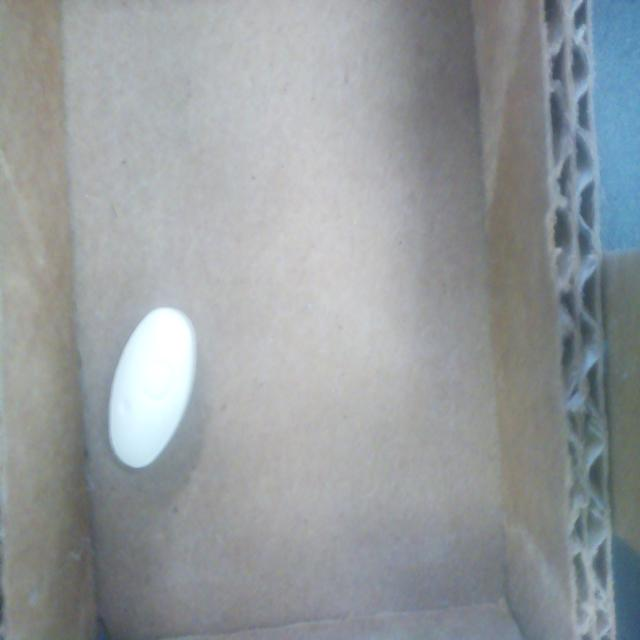pill: (107, 307, 196, 470)
